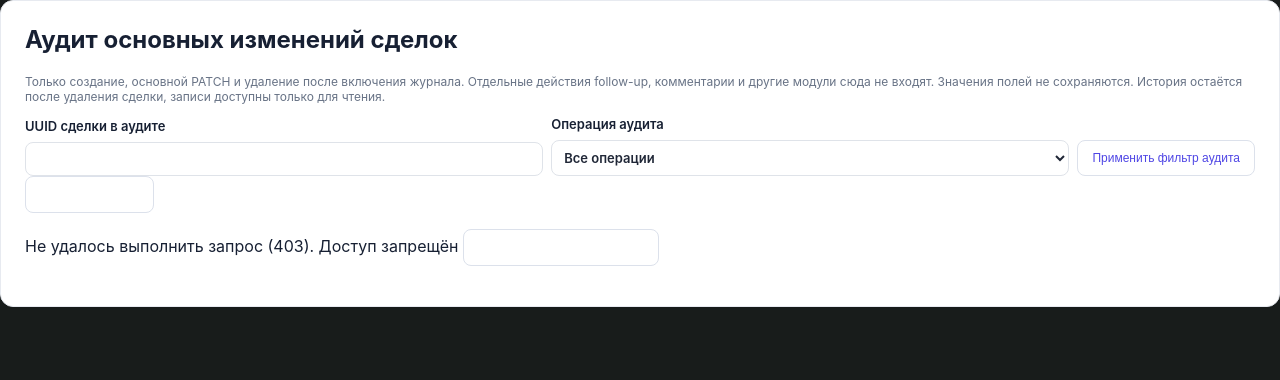
Test: reports denial without retaining private records and retries
Expected: the message shows "Доступ запрещён", [25, 236, 458, 256]
What coordinates should you click on to do the following:
click the button "Повторить загрузку аудита"
I would click on:
 (561, 247)
Its box is [463, 229, 658, 266].
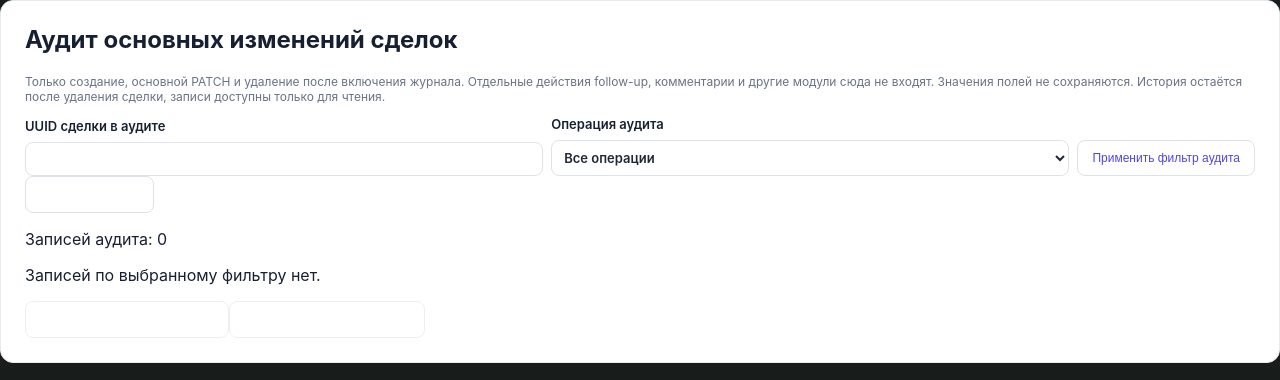
Expected: the text "Записей по выбранному фильтру нет." is shown, [25, 265, 321, 285]
